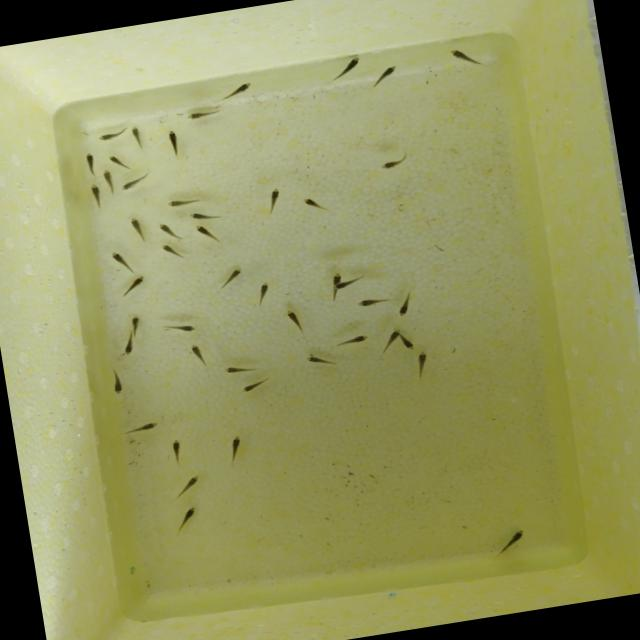fingerling: (112, 331, 144, 366), (321, 272, 364, 298), (497, 525, 537, 550), (392, 287, 421, 318), (106, 370, 132, 404), (126, 416, 162, 439), (120, 122, 152, 146), (298, 349, 330, 372), (174, 504, 202, 530), (261, 185, 287, 212), (226, 78, 259, 98), (409, 346, 434, 372), (253, 277, 277, 304), (223, 432, 250, 456), (88, 127, 120, 147), (376, 153, 405, 175), (217, 361, 256, 377), (340, 53, 368, 75), (118, 174, 145, 196), (110, 245, 132, 272), (448, 44, 474, 66), (372, 64, 402, 83), (180, 470, 202, 495), (238, 377, 264, 398), (172, 318, 200, 337), (281, 304, 303, 328), (355, 294, 384, 312), (162, 196, 198, 210), (182, 342, 208, 361), (222, 266, 249, 284), (180, 110, 213, 124), (125, 272, 146, 294), (126, 214, 146, 237), (158, 238, 178, 260), (299, 194, 324, 211), (124, 313, 146, 332), (165, 127, 183, 150), (100, 166, 117, 190), (182, 210, 216, 222), (329, 269, 348, 288), (88, 182, 104, 204), (106, 151, 125, 169), (195, 222, 214, 240), (399, 333, 418, 351), (169, 439, 184, 461), (160, 219, 175, 239), (345, 334, 372, 344), (86, 149, 98, 171), (388, 326, 402, 344)
